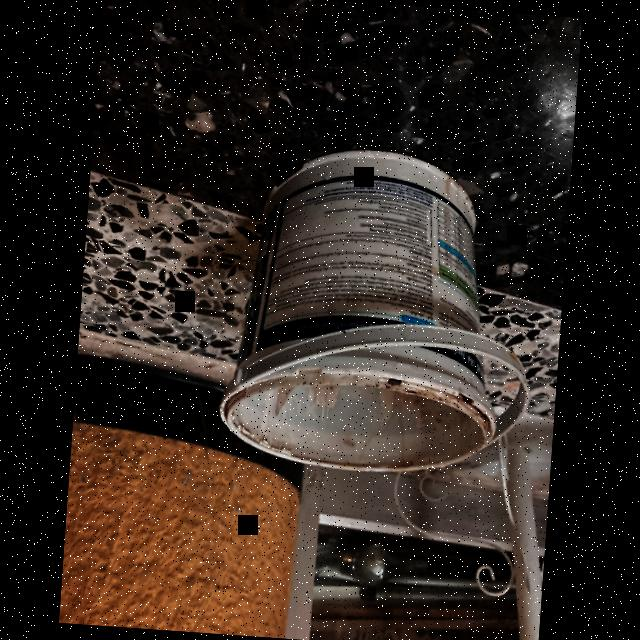paint_bucket: (214, 138, 518, 484)
